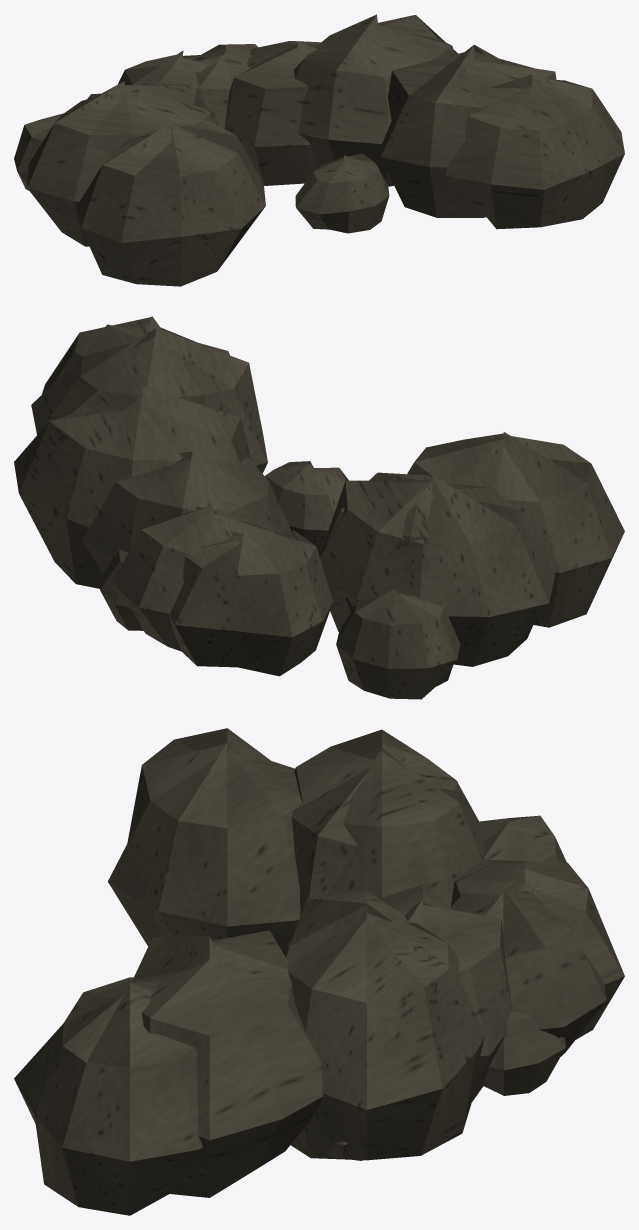
The model's file is PROP-A033083676EE_lod1.glb.
3 views of the same model, one above another, from view 1: azimuth 30°, elevation 25°; view 2: azimuth 150°, elevation 25°; view 3: azimuth 270°, elevation 25° (orthographic). The views are drawn at different scales.
Parts seen in each view (by area): view 1: rock.003; view 2: rock.003; view 3: rock.003.
Boxes of the visible parts, x1,y1,x2,y2 form: rock.003: [14, 14, 624, 286]; rock.003: [14, 316, 624, 699]; rock.003: [14, 728, 624, 1215].
Bounding box in the file's own units: 1.66 × 0.4583 × 1.19.
1 material, 1 textured.
